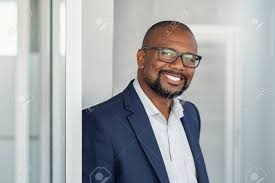Glasses: (141, 46, 205, 69)
